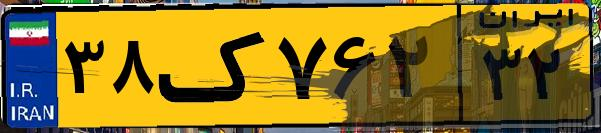2: (385, 28, 445, 110), (525, 38, 570, 115)
3: (57, 26, 110, 100), (475, 38, 525, 113)
6: (330, 28, 385, 110)
7: (270, 28, 330, 110)
8: (110, 28, 158, 98)
ک: (158, 12, 270, 120)
